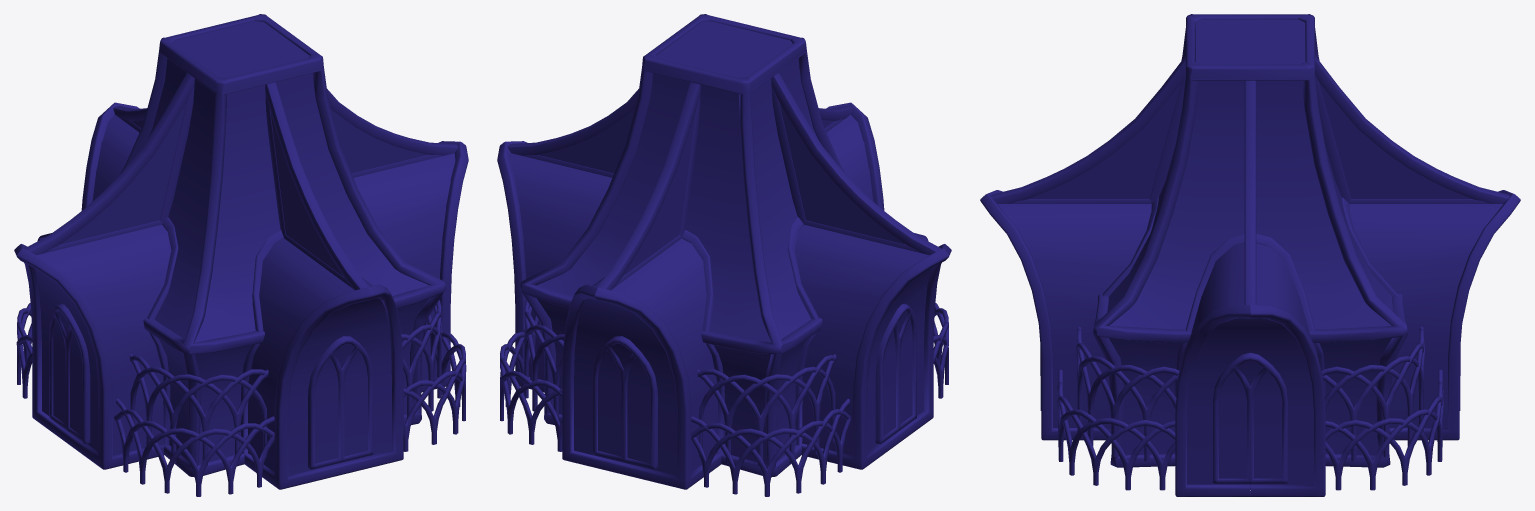
File: SM_elfe_roof_low.fbx
The picture shows the model from 3 angles, left to right: view 1: azimuth 30°, elevation 25°; view 2: azimuth 150°, elevation 25°; view 3: azimuth 270°, elevation 25°; orthographic projection. The views are drawn at different scales.
Visible parts, largest first — view 1: SM_elfe_roof_low; view 2: SM_elfe_roof_low; view 3: SM_elfe_roof_low.
Part boxes in pixels (x1,y1,x2,y2): SM_elfe_roof_low: (14,14,468,496); SM_elfe_roof_low: (497,14,951,496); SM_elfe_roof_low: (980,14,1520,496).
Bounding box in the file's own units: 52.34 × 39.36 × 52.34.
